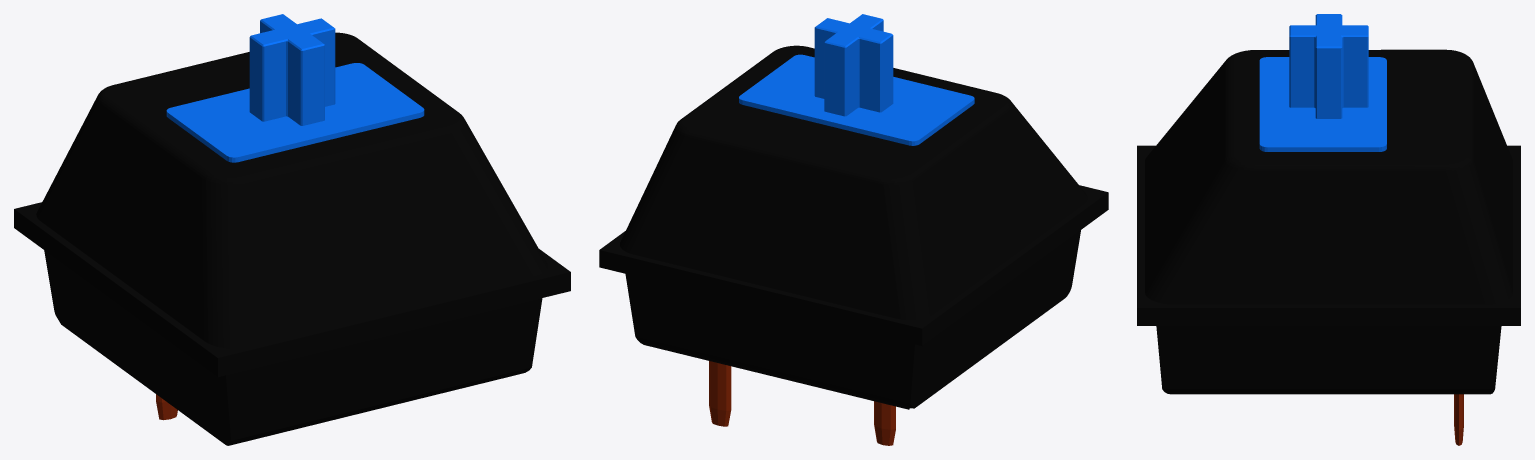
File: mxblue.glb
3 renders of one model, left to right at view 1: azimuth 30°, elevation 25°; view 2: azimuth 150°, elevation 25°; view 3: azimuth 270°, elevation 25°, orthographic. The views are drawn at different scales.
Visible parts, largest first — view 1: Switch; view 2: Switch; view 3: Switch.
Boxes of the visible parts, x1,y1,x2,y2 form: Switch: (14, 14, 570, 445); Switch: (599, 14, 1108, 445); Switch: (1137, 14, 1520, 445).
Size of the model in its own units: 0.0145 by 0.0157 by 0.0145.
